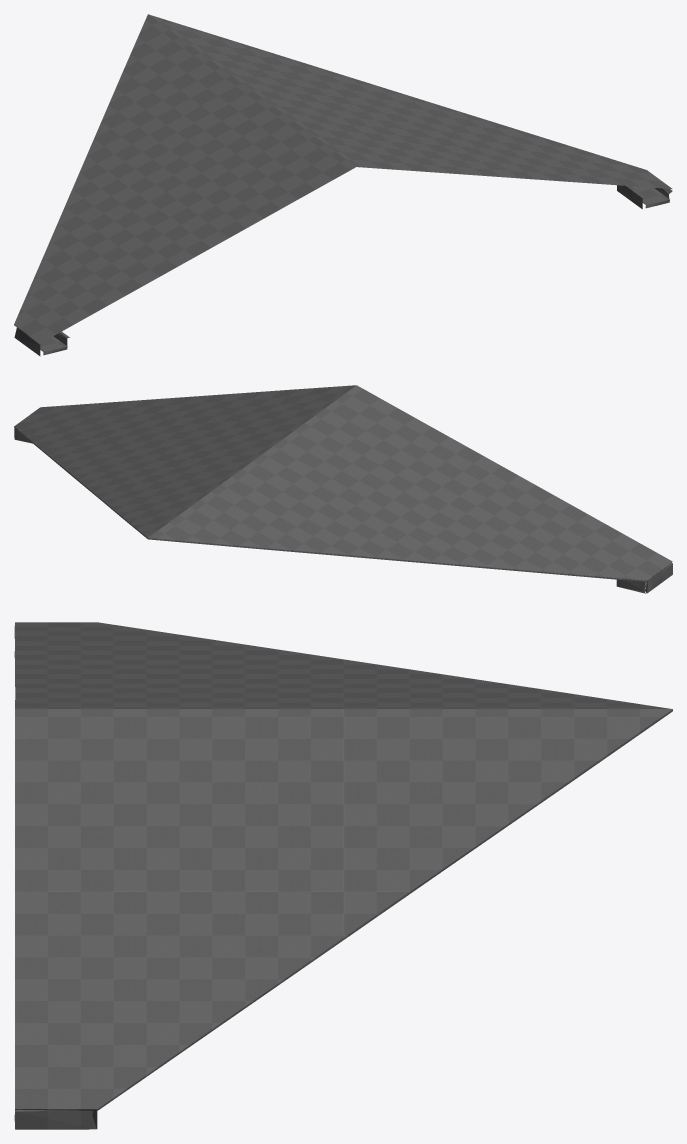
The model's file is SM_House_Roof_B_Merge.glb.
3 views of the same model, one above another, from view 1: azimuth 30°, elevation 25°; view 2: azimuth 150°, elevation 25°; view 3: azimuth 270°, elevation 25° (orthographic). The views are drawn at different scales.
Parts seen in each view (by area): view 1: SM_House_Roof_B_Merge; view 2: SM_House_Roof_B_Merge; view 3: SM_House_Roof_B_Merge.
Boxes of the visible parts, bbox=[...] form: SM_House_Roof_B_Merge: bbox=[14, 14, 672, 356]; SM_House_Roof_B_Merge: bbox=[14, 385, 672, 593]; SM_House_Roof_B_Merge: bbox=[14, 622, 672, 1129].
Size of the model in its own units: 1051 by 181 by 601.
Materials: 1 (1 with a texture image).
